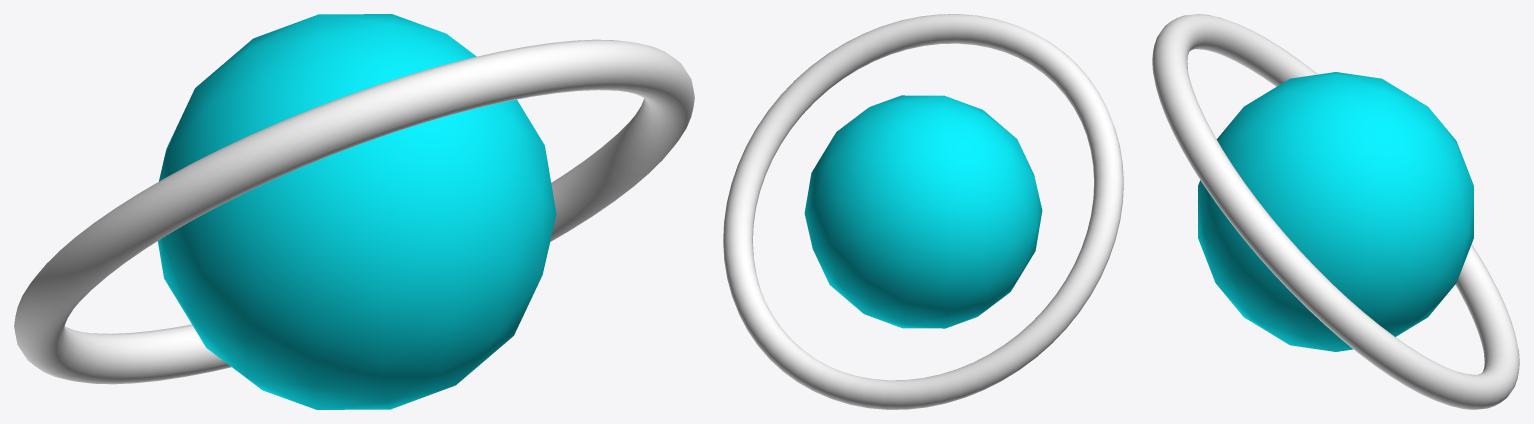
File: hero-model.glb
The picture shows the model from 3 angles, left to right: view 1: azimuth 30°, elevation 25°; view 2: azimuth 150°, elevation 25°; view 3: azimuth 270°, elevation 25°; orthographic projection. The views are drawn at different scales.
Size of the model in its own units: 4.3 by 3.13 by 3.13.
